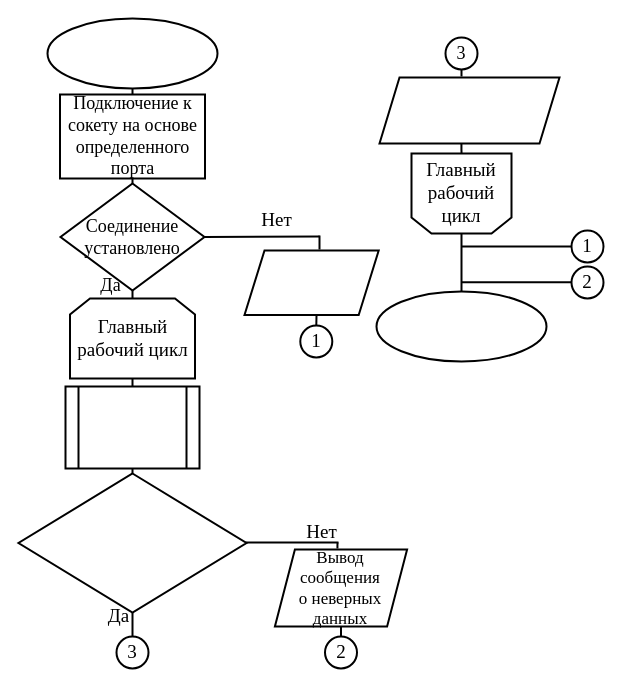
Image size: 621x686. Some labels were removed from this diagram. The box of each missing label's shape, as (x1, y1, x2, y2) in pixels:
Вход в онлайн-сервис: (64, 385, 200, 469)
Вывод информации на главный экран: (378, 76, 560, 144)
Вывод сообщения об ошибке: (243, 249, 379, 316)
Конец: (375, 290, 547, 362)
Начало: (46, 17, 218, 89)
Осуществлен ли вход в программное средство: (17, 472, 247, 613)
